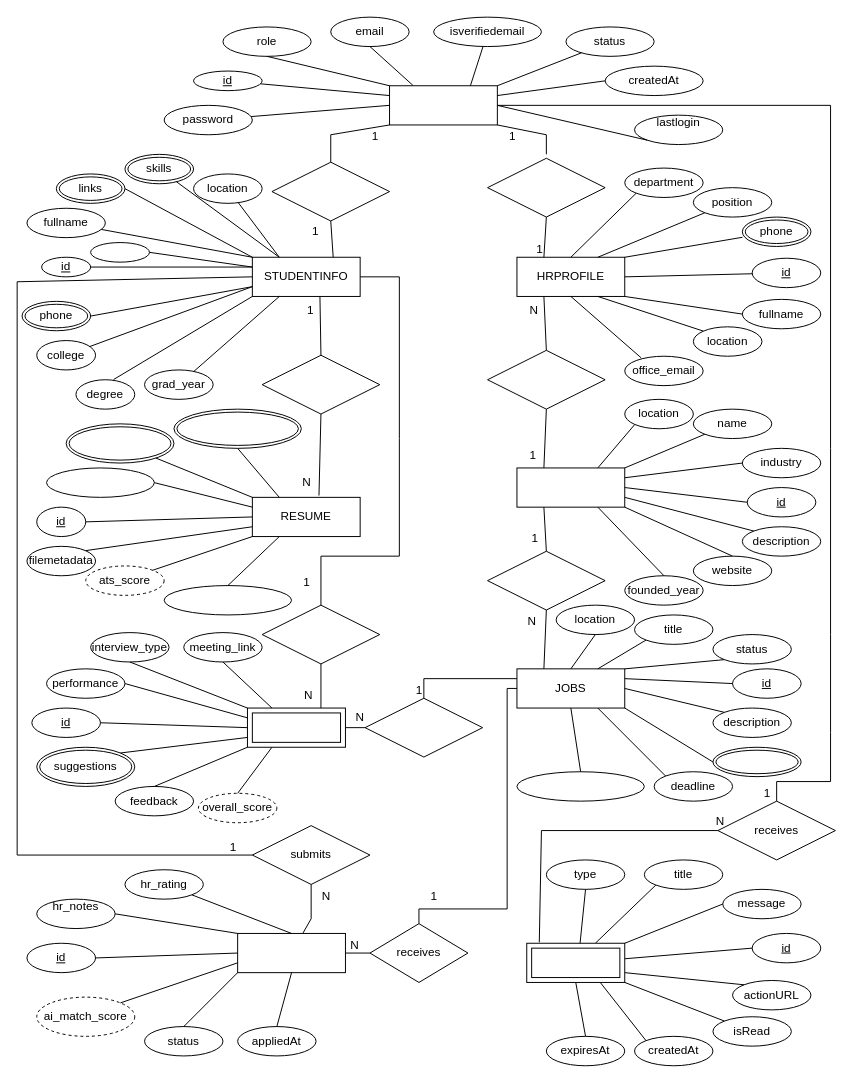
This 853x1083 diagram has some shape labels left out. The centre of each missing label's shape, as x and y in pixels:
"ai_analysis" goes at (227,600).
"APPLICATIONS" goes at (291,952).
"authenticates" goes at (330,191).
"belongsto" goes at (546,379).
"branch" goes at (119,252).
"builds" goes at (320,384).
"COMPANY" goes at (570,487).
"conducts" goes at (423,727).
"employment_type" goes at (580,786).
"employs" goes at (546,580).
"extends to" goes at (546,187).
"generates" goes at (320,634).
"INTERVIEW" goes at (295,727).
"NOTIFICATION" goes at (575,962).
"parsed_experience" goes at (237,428).
"parsed_projects" goes at (119,443).
"parsed_summary" goes at (100,482).
"skills_required" goes at (756,761).
"USER" goes at (443,105).
